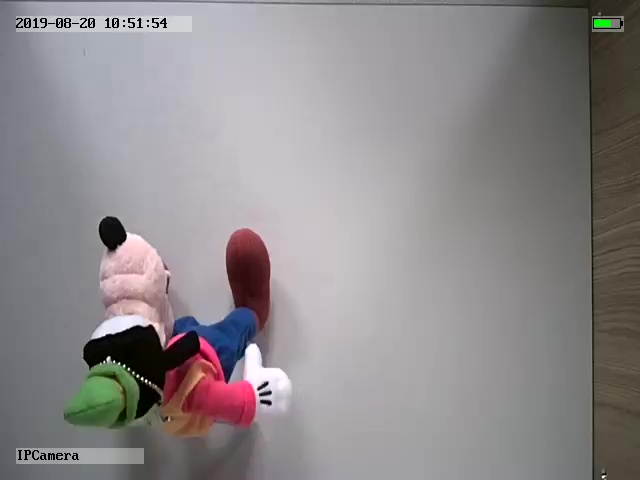goofy: (60, 214, 294, 440)
